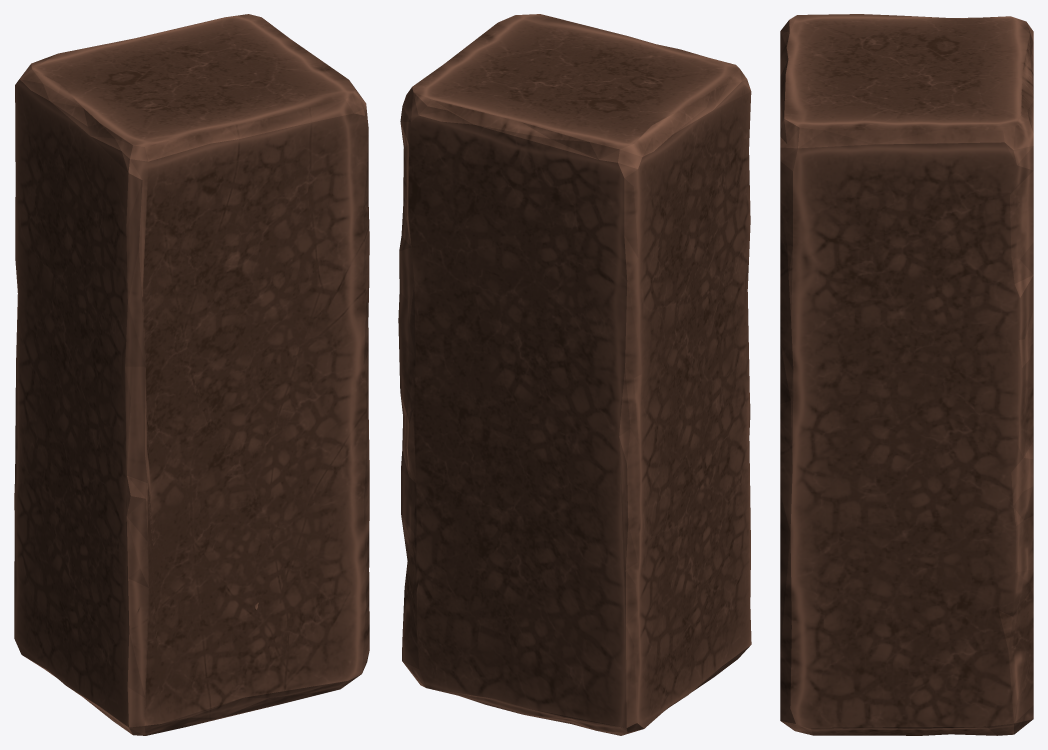
3 renders of one model, left to right at view 1: azimuth 30°, elevation 25°; view 2: azimuth 150°, elevation 25°; view 3: azimuth 270°, elevation 25°, orthographic. The views are drawn at different scales.
Parts seen in each view (by area): view 1: SM_Rocks_6_low; view 2: SM_Rocks_6_low; view 3: SM_Rocks_6_low.
Boxes of the visible parts, x1,y1,x2,y2 form: SM_Rocks_6_low: (14,14,369,735); SM_Rocks_6_low: (398,14,751,735); SM_Rocks_6_low: (780,14,1033,735).
Bounding box in the file's own units: 1.57 × 3.67 × 1.38.
1 material, 1 textured.
